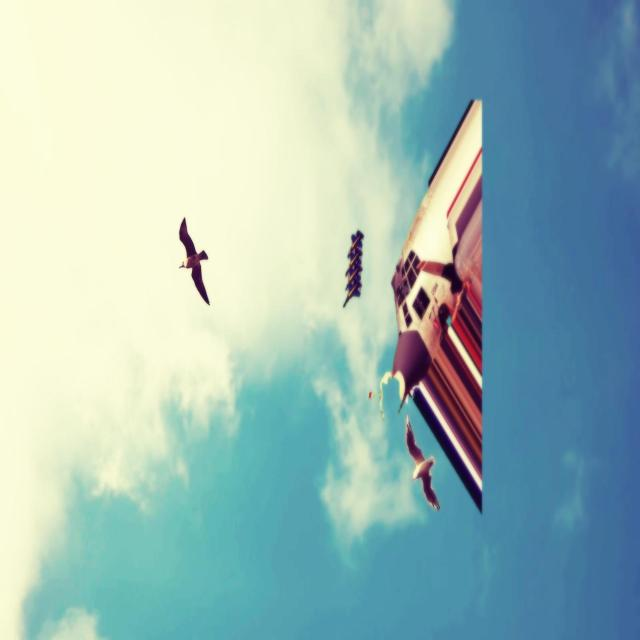airplane: (391, 100, 482, 520), (342, 227, 363, 310)
